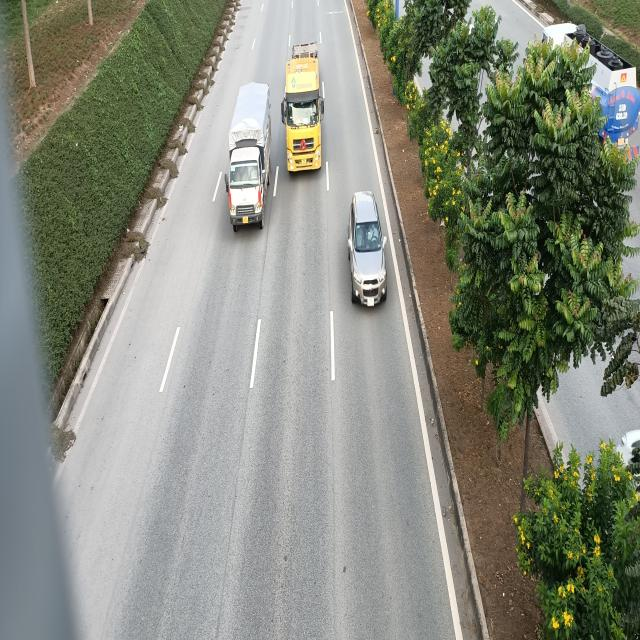car: (346, 189, 386, 305)
container: (280, 40, 322, 174)
truck: (224, 85, 271, 235)
